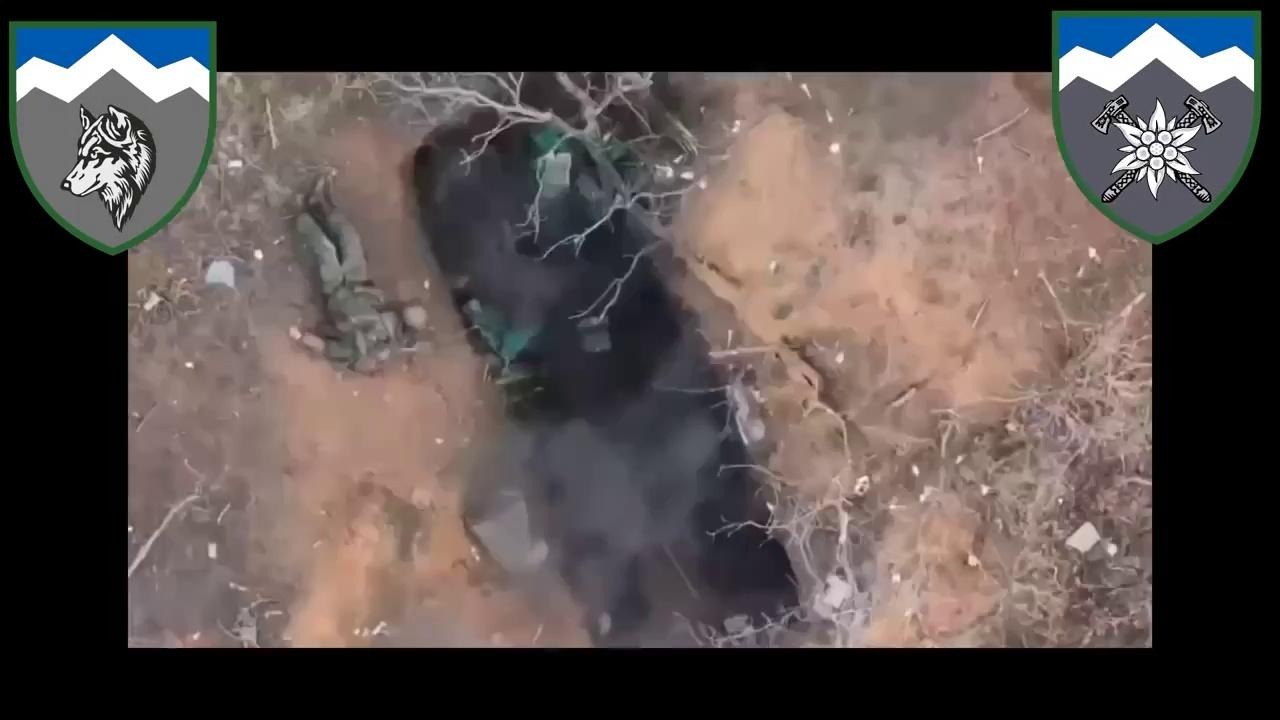person: (283, 180, 424, 369)
trench: (406, 95, 806, 646)
